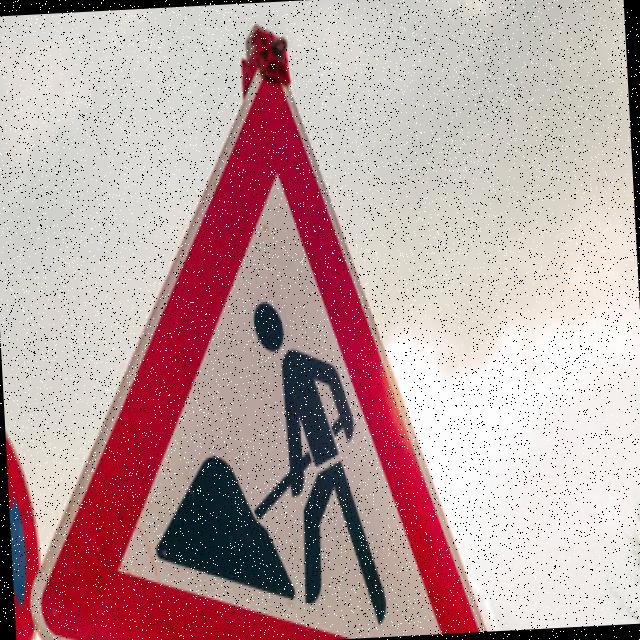road_work: (13, 64, 517, 640)
